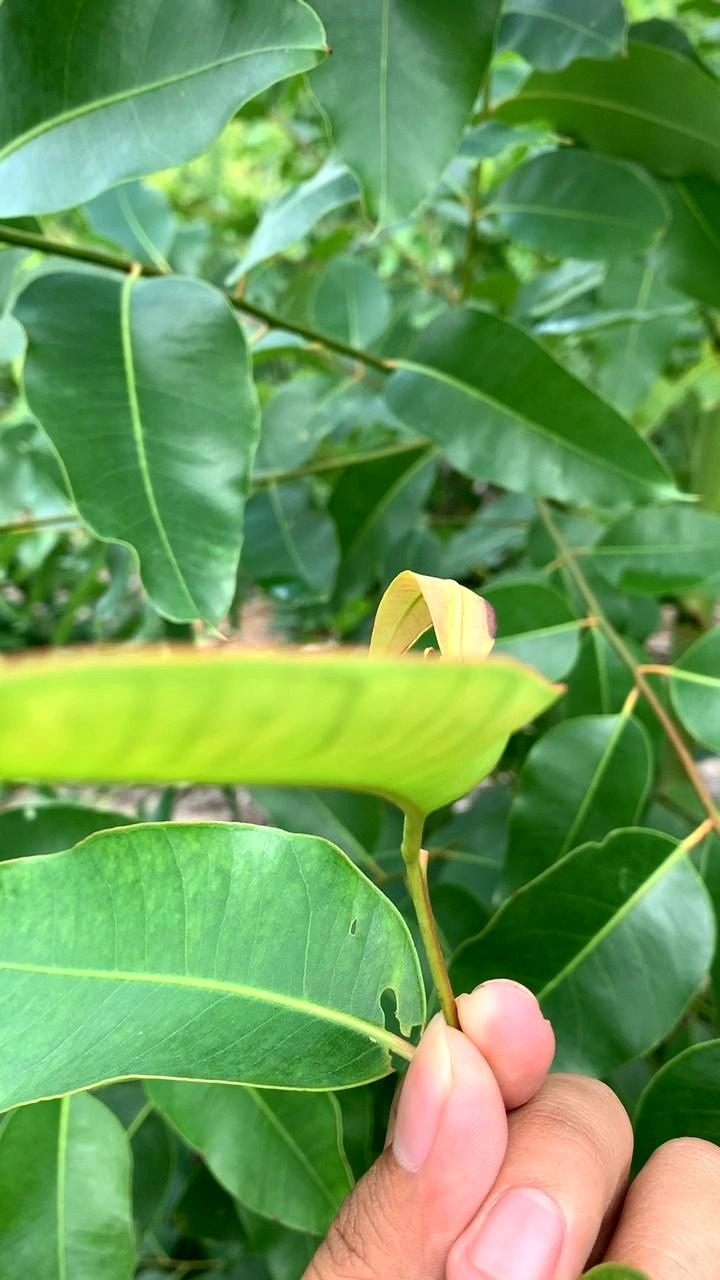Helopeltis-Withered Sprout: (340, 538, 523, 675)
